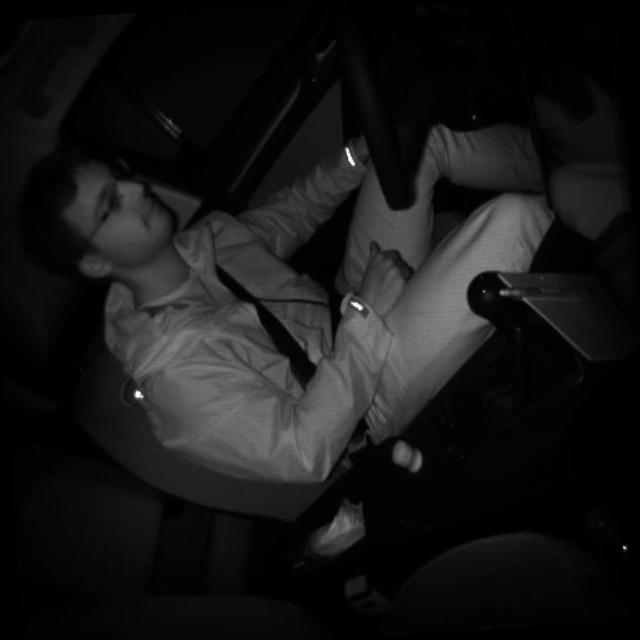pen: (497, 280, 598, 302)
